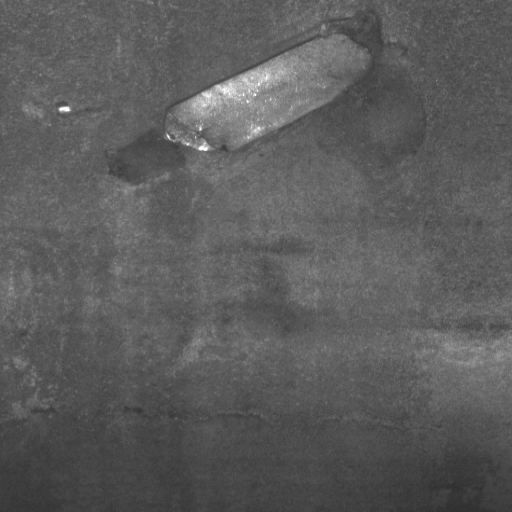aokeng: (159, 30, 377, 156)
